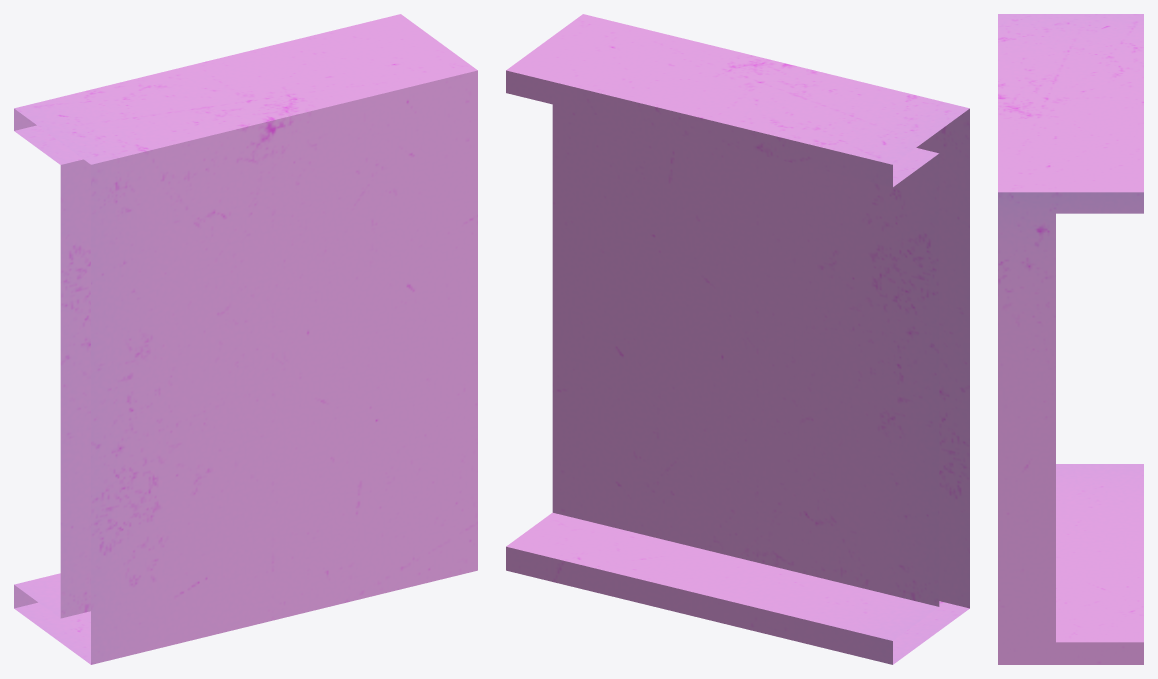
The model's file is EndCap_02_SM_Low.fbx.
3 views of the same model, side by side, from view 1: azimuth 30°, elevation 25°; view 2: azimuth 150°, elevation 25°; view 3: azimuth 270°, elevation 25° (orthographic). The views are drawn at different scales.
Parts seen in each view (by area): view 1: EndCapTop_Geo; view 2: EndCapTop_Geo; view 3: EndCapTop_Geo.
Part boxes in pixels (x1=…): EndCapTop_Geo: x1=14, y1=14, x2=477, y2=664; EndCapTop_Geo: x1=506, y1=14, x2=969, y2=664; EndCapTop_Geo: x1=998, y1=14, x2=1143, y2=664.
Size of the model in its own units: 17.38 by 21.46 by 6.
1 material, 1 textured.
